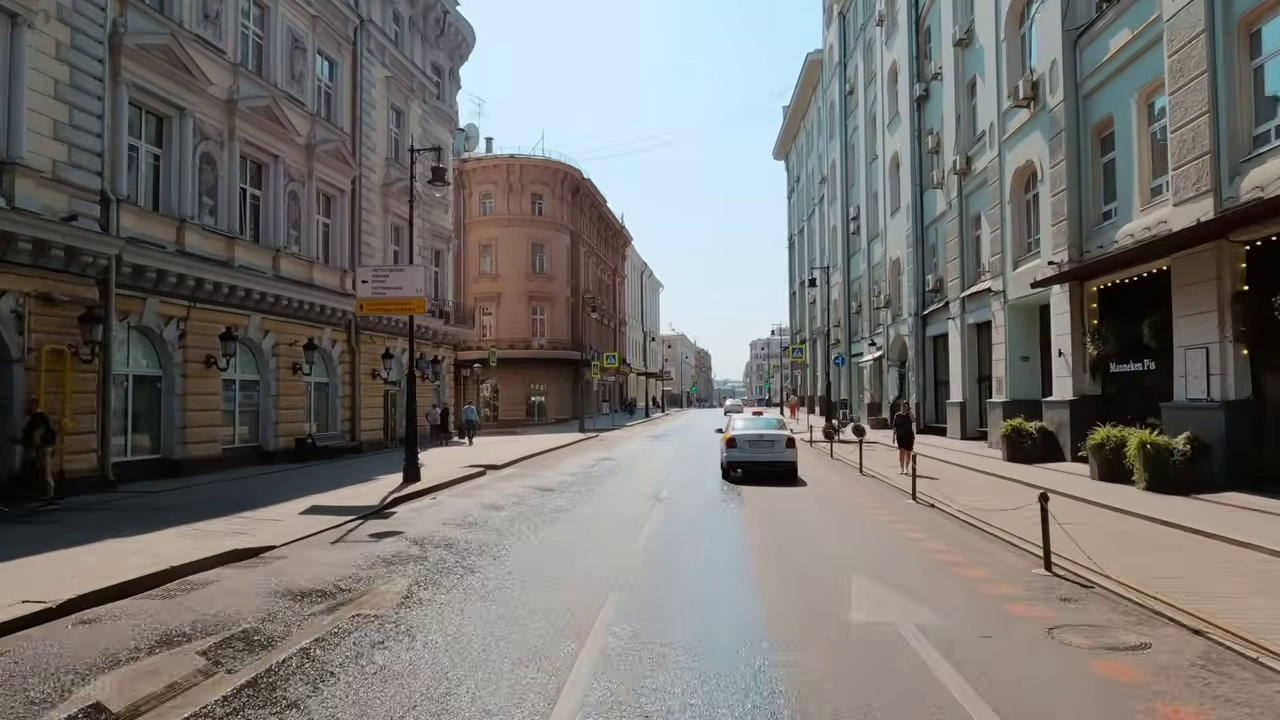apagada: (429, 163, 451, 207)
